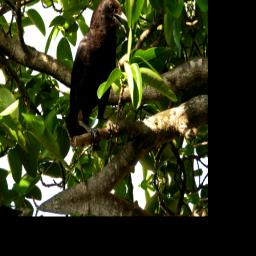Crow: (53, 0, 142, 150)
